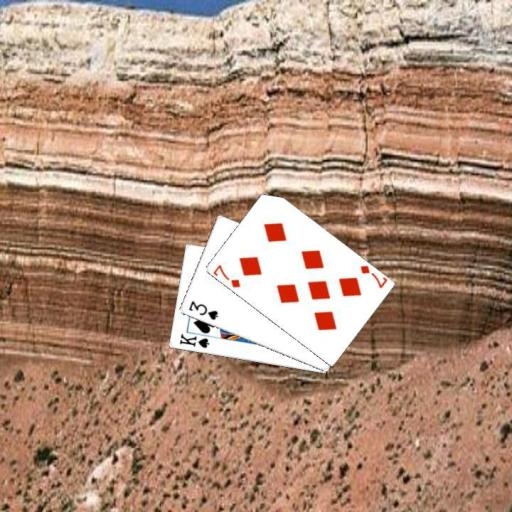3S: (185, 298, 219, 321)
7D: (210, 261, 242, 289), (356, 263, 388, 290)
KS: (176, 331, 211, 350)
